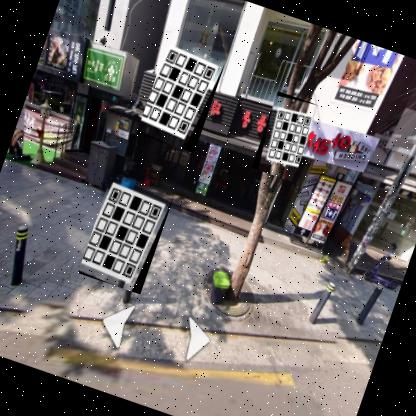qncode: (76, 172, 174, 296), (135, 42, 225, 154), (250, 92, 319, 184)
